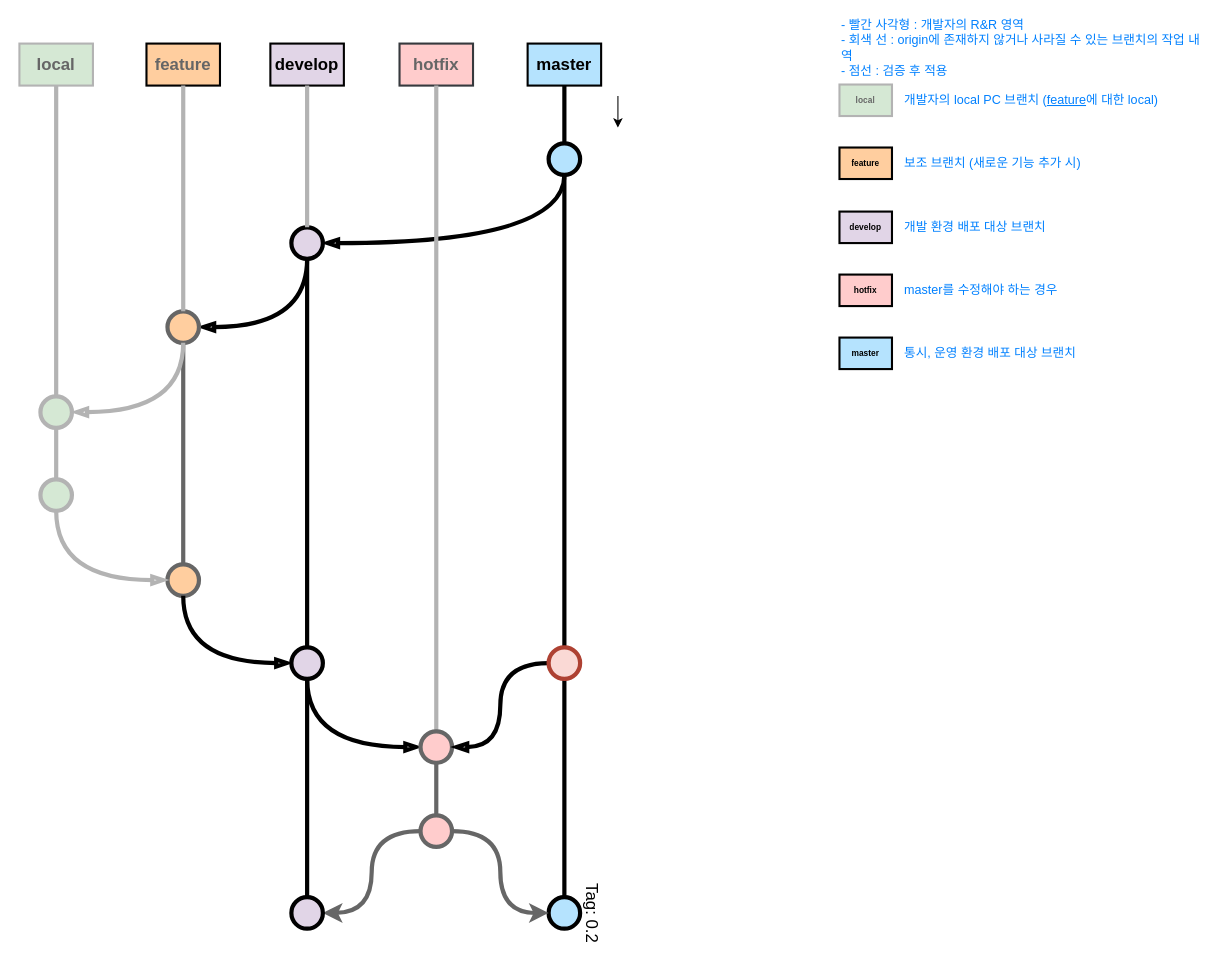
Some shapes in this 1224 by 960 pixel diagram are drawn without their labels. Each missing label, with the box of its shape:
bug fix: (418, 813, 454, 848)
bug 발생: (546, 645, 582, 680)
Tag: 0.1: (546, 141, 582, 176)
